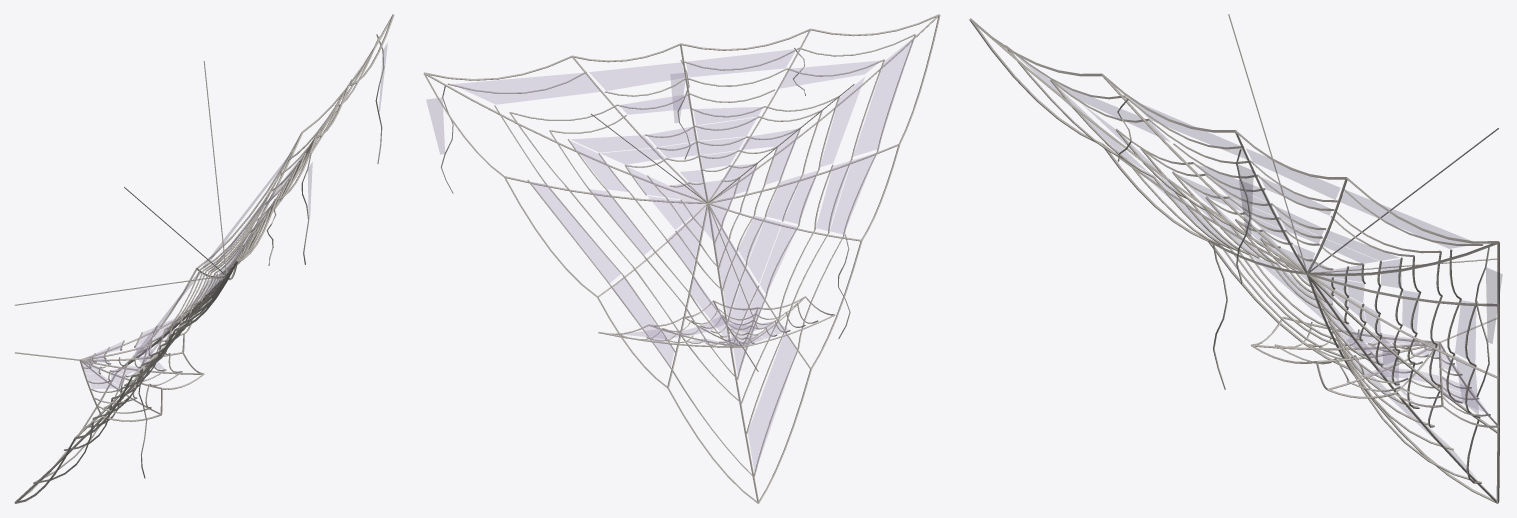
File: telarana.glb
The picture shows the model from 3 angles, left to right: view 1: azimuth 30°, elevation 25°; view 2: azimuth 150°, elevation 25°; view 3: azimuth 270°, elevation 25°; orthographic projection. The views are drawn at different scales.
Parts seen in each view (by area): view 1: cobweb_web; view 2: cobweb_web; view 3: cobweb_web.
Part boxes in pixels (left/top/right/bottom): cobweb_web: left=14, top=14, right=394, bottom=503; cobweb_web: left=423, top=14, right=940, bottom=503; cobweb_web: left=969, top=14, right=1502, bottom=503.
Size of the model in its own units: 0.9543 by 0.9527 by 0.9391.
